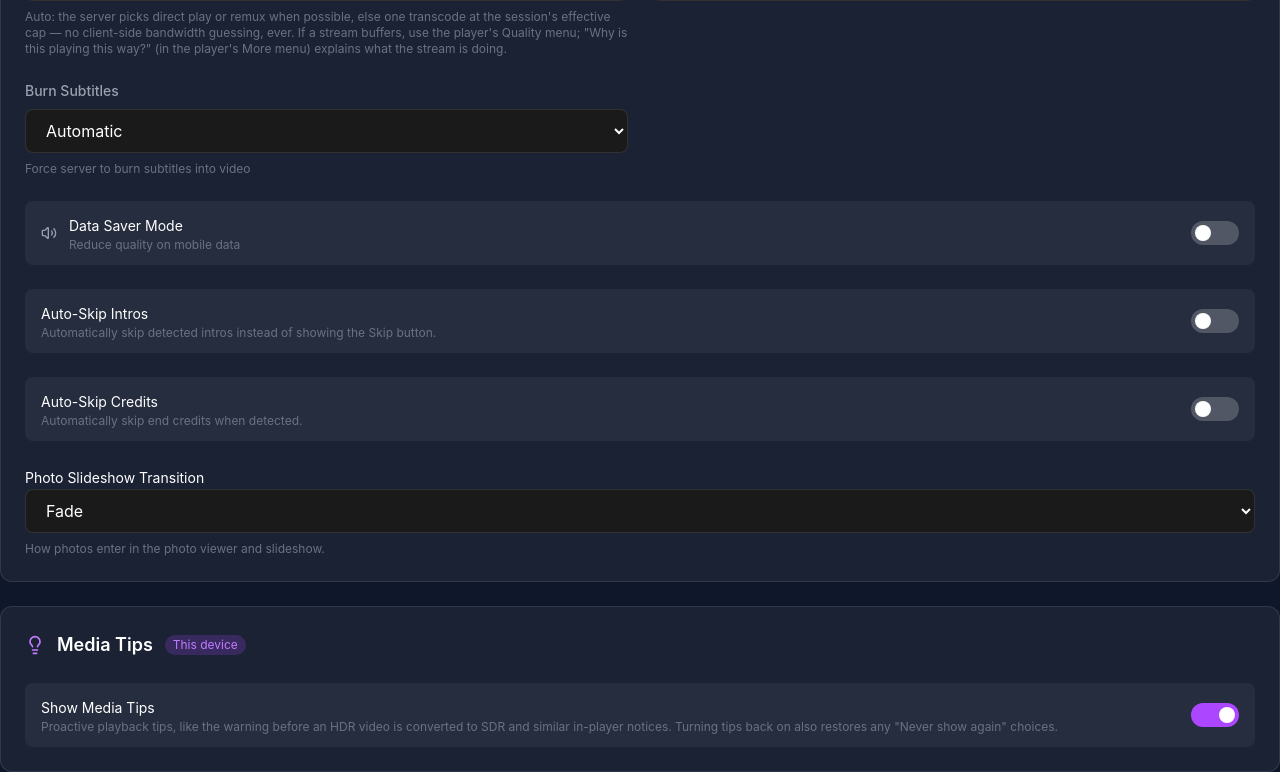
Test: ClientSettings — Media Tips (QS-WI-011) › is ON by default and turning it off requires the confirm dialog FIRST
(page scrolled)
What coordinates should you click on to do the following:
click the switch named "show media tips"
I would click on:
 (1215, 715)
Its box is x1=1191 y1=703 x2=1239 y2=727.
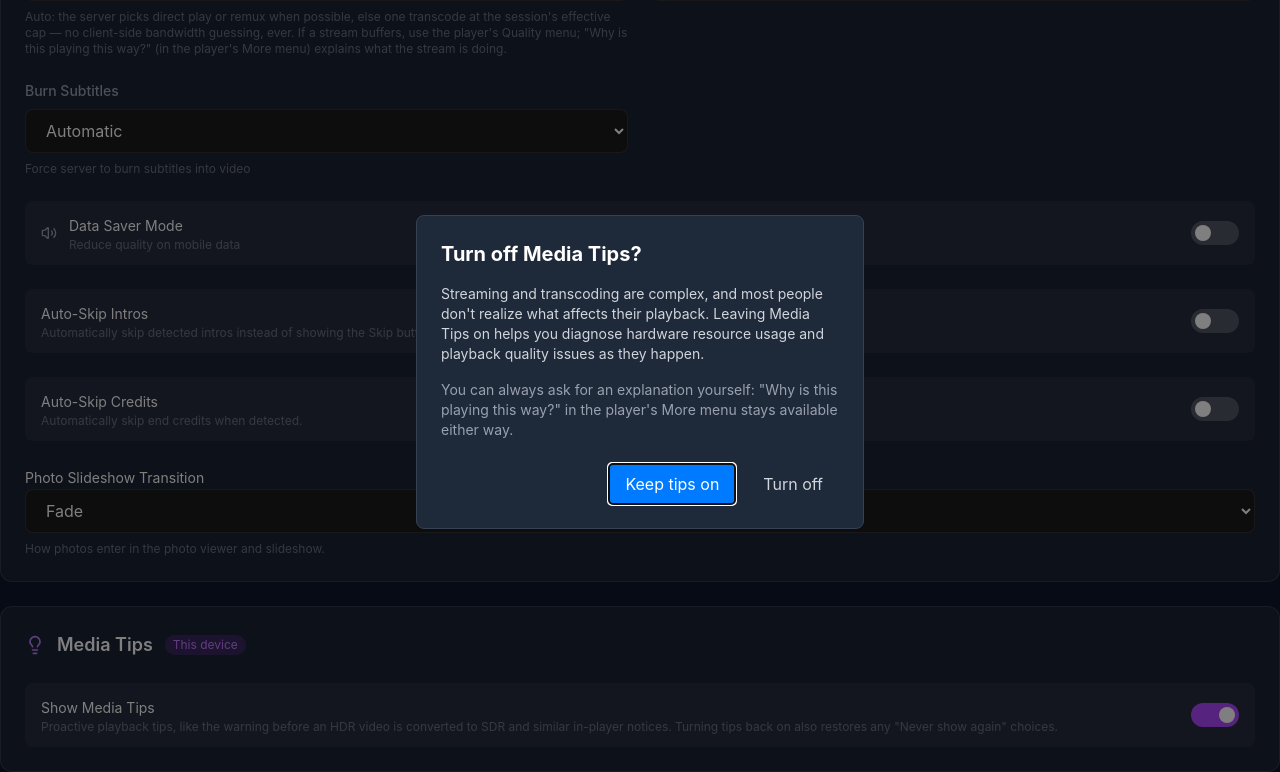
Check: the text "resource usage and playback quality issues" is shown, box x1=441 y1=285 x2=824 y2=362
